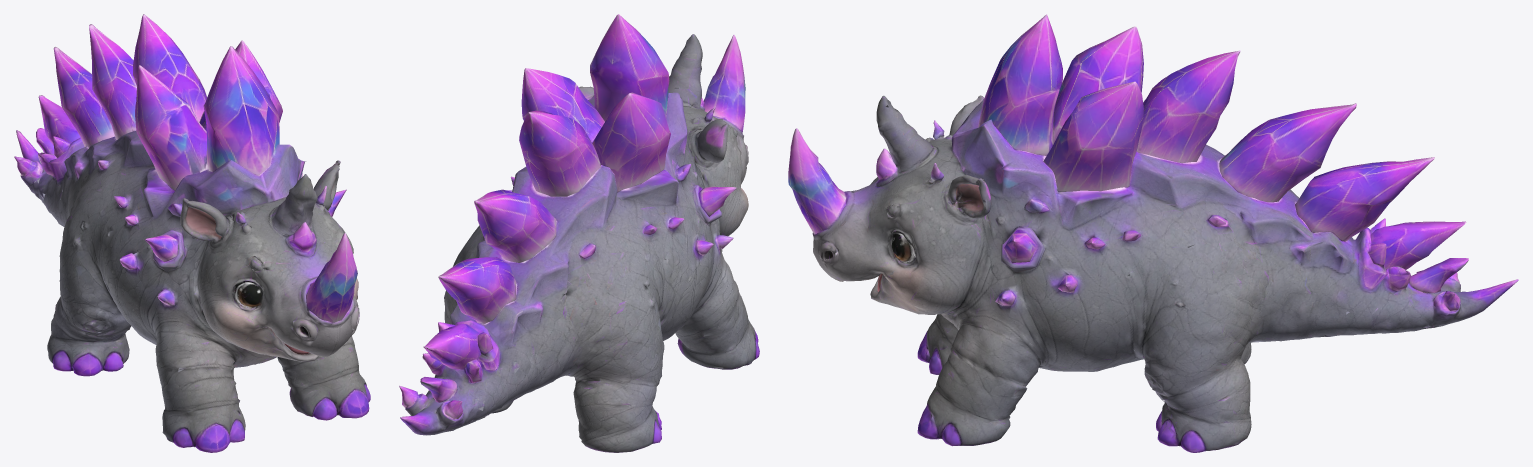
Rendered from prismhorn.glb.
3 views of the same model, side by side, from view 1: azimuth 30°, elevation 25°; view 2: azimuth 150°, elevation 25°; view 3: azimuth 270°, elevation 25° (orthographic). The views are drawn at different scales.
Visible parts, largest first — view 1: prismhorn; view 2: prismhorn; view 3: prismhorn.
Boxes of the visible parts, bbox=[...] form: prismhorn: bbox=[14, 14, 370, 452]; prismhorn: bbox=[399, 14, 759, 452]; prismhorn: bbox=[788, 14, 1518, 452].
Bounding box in the file's own units: 0.6586 × 1 × 1.74.
Materials: 1 (1 with a texture image).
